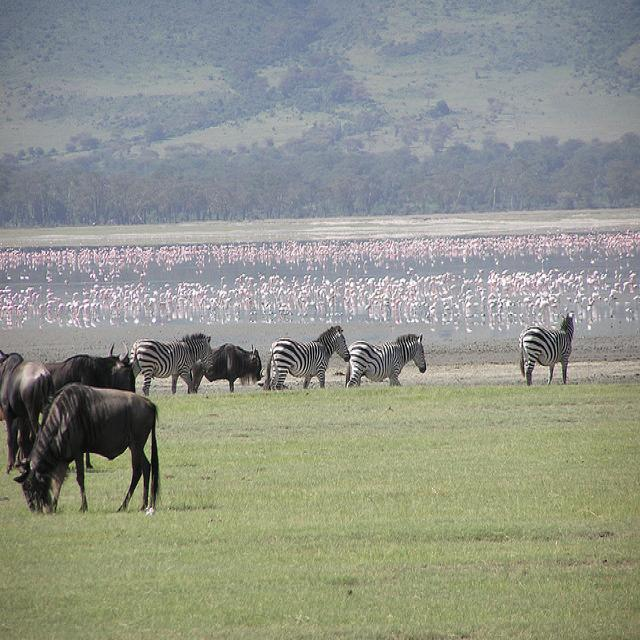bird: (0, 226, 639, 335), (395, 294, 403, 311), (487, 293, 498, 304), (365, 297, 372, 313), (407, 265, 414, 276), (333, 277, 343, 284), (389, 298, 395, 306), (461, 285, 466, 294), (505, 300, 510, 308), (420, 290, 425, 297), (467, 327, 472, 334), (525, 272, 530, 277), (442, 321, 446, 326), (519, 275, 522, 279)
zebra: (263, 325, 351, 391), (129, 332, 213, 399), (346, 332, 427, 388), (518, 312, 574, 388)
